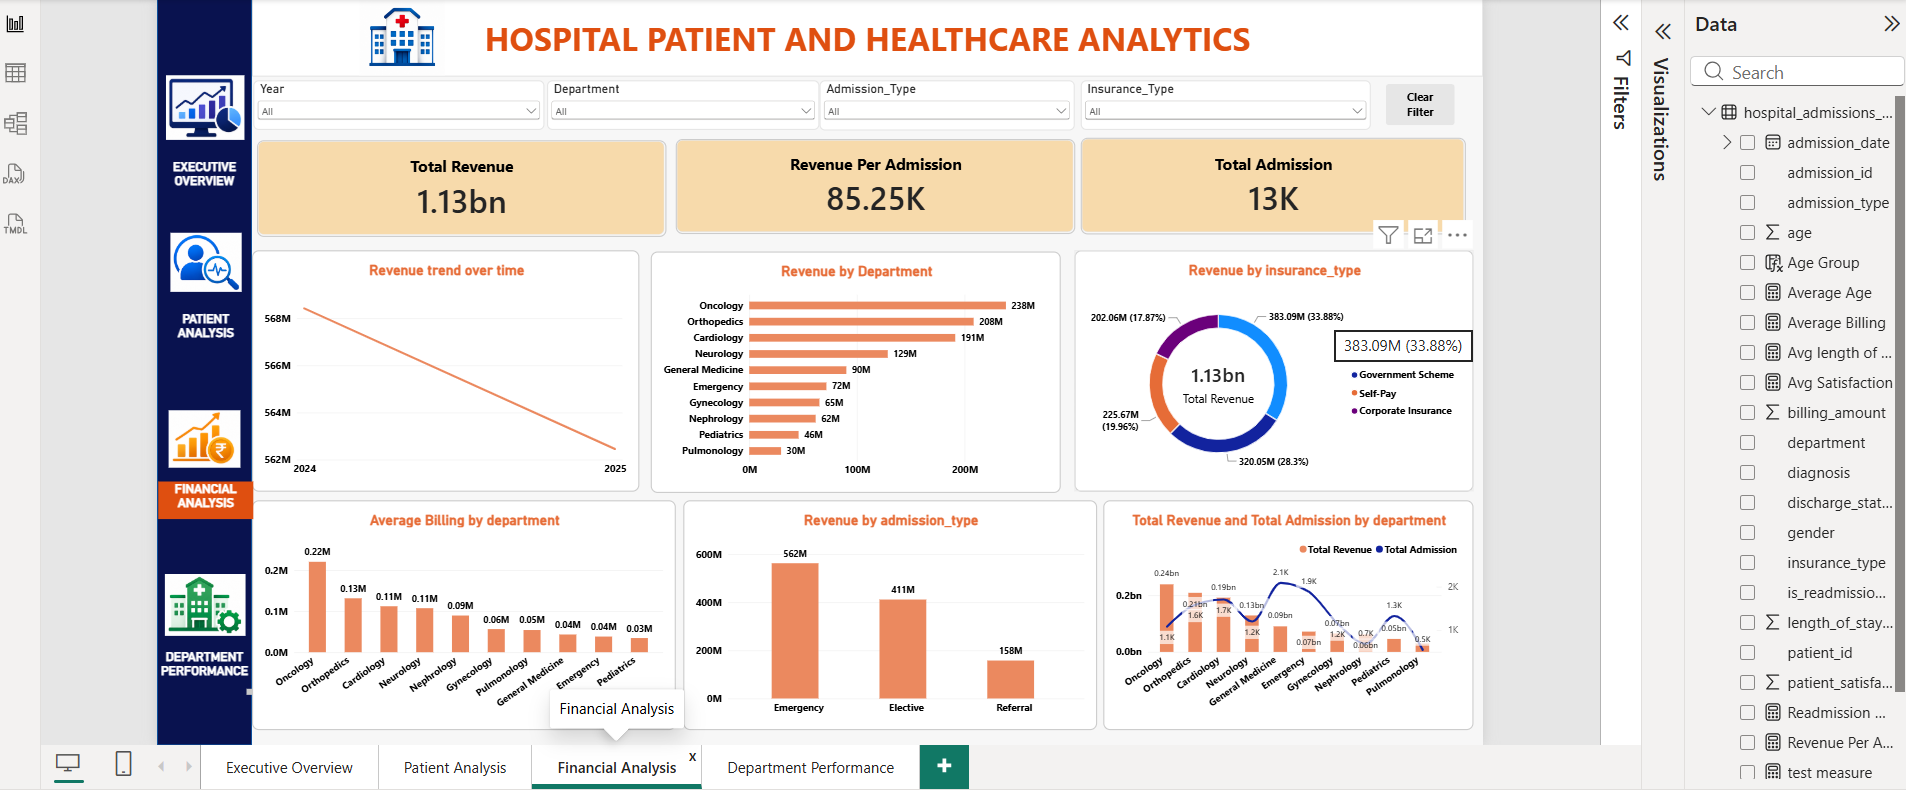

What the dashboard file says about the page in this screenshot:
{"tool":"powerbi","page":{"name":"Financial Analysis","canvas":[1920,1080],"ordinal":2},"visuals":[{"type":"shape","box":[0,0,137.5,1080.4],"z":0},{"type":"shape","box":[137.5,0,1782.5,112.2],"z":1000},{"type":"slicer","fields":{"Values":["hospital_admissions_data.admission_date.Variation.Date Hierarchy.Year"]},"box":[139.3,117.6,421.7,72.4],"z":2000},{"type":"slicer","fields":{"Values":["hospital_admissions_data.department"]},"box":[564.6,117.6,394.5,72.4],"z":3000},{"type":"slicer","fields":{"Values":["hospital_admissions_data.admission_type"]},"box":[959.1,117.6,369.2,73.1],"z":4000},{"type":"slicer","fields":{"Values":["hospital_admissions_data.insurance_type"]},"box":[1337.3,117.6,419.8,72.4],"z":5000},{"type":"cardVisual","fields":{"Data":["hospital_admissions_data.Total Revenue"]},"box":[144,204.5,592.7,139.8],"z":6000},{"type":"cardVisual","fields":{"Data":["hospital_admissions_data.Revenue Per Admission"]},"box":[751.3,202.4,578.1,137.7],"z":7000},{"type":"cardVisual","fields":{"Data":["hospital_admissions_data.Total Admission"]},"box":[1337.7,200.3,557.2,139.8],"z":8000},{"type":"lineChart","title":" Revenue trend over time","fields":{"Y":["hospital_admissions_data.Total Revenue"],"Category":["hospital_admissions_data.admission_date.Variation.Date Hierarchy.Year","hospital_admissions_data.admission_date.Variation.Date Hierarchy.Month"]},"box":[137.5,363.7,561,349.3],"z":9000},{"type":"clusteredBarChart","title":"Revenue by Department","fields":{"Category":["hospital_admissions_data.department"],"Y":["hospital_admissions_data.Total Revenue"]},"box":[714.8,365.6,593.6,349.3],"z":10000},{"type":"donutChart","title":" Revenue by insurance_type","fields":{"Category":["hospital_admissions_data.insurance_type"],"Y":["hospital_admissions_data.Total Revenue"]},"box":[1328.3,363.7,577.3,349.3],"z":11000},{"type":"clusteredColumnChart","title":" Revenue by admission_type","fields":{"Category":["hospital_admissions_data.admission_type"],"Y":["hospital_admissions_data.Total Revenue"]},"box":[761.9,725.7,599,333],"z":12000},{"type":"columnChart","title":"Average Billing by department","fields":{"Category":["hospital_admissions_data.department"],"Y":["hospital_admissions_data.Average Billing"]},"box":[137.5,725.7,613.5,333],"z":13000},{"type":"lineClusteredColumnComboChart","title":"Total Revenue and Total Admission by department","fields":{"Category":["hospital_admissions_data.department"],"Y":["hospital_admissions_data.Total Revenue"],"Y2":["hospital_admissions_data.Total Admission"]},"box":[1369.9,725.7,535.7,333],"z":14000},{"type":"actionButton","box":[1778.9,123.1,100,59.6],"z":15000},{"type":"image","box":[242.5,1.8,224.4,108.6],"z":16000},{"type":"textbox","title":"EXECUTIVE OVERVIEW","box":[0,231.7,137.7,83.5],"z":17000},{"type":"textbox","title":"PATIENT ANALYSIS","box":[2.1,452.9,137.7,85.6],"z":18000},{"type":"textbox","title":"FINANCIAL ANALYSIS","box":[2.1,699.1,137.7,54.3],"z":19000},{"type":"textbox","title":"DEPARTMENT PERFORMANCE","box":[0,941.2,137.7,66.8],"z":20000},{"type":"image","box":[2.1,110.6,135.7,93.9],"z":21000},{"type":"image","box":[2.1,338.1,137.7,85.6],"z":22000},{"type":"image","box":[0,594.8,137.7,83.5],"z":23000},{"type":"image","box":[2.1,832.7,135.7,89.7],"z":24000}]}

Visuals, with their boxes on the page's 1920x1080 design canvas (x1, y1, x2, y2). These are canvas units, not pixel positions in the 1906x790 screenshot, which may show the page scaled, cropped or inside an application window:
shape: locate(0, 0, 138, 1080)
shape: locate(138, 0, 1920, 112)
slicer - hospital_admissions_data.admission_date.Variation.Date Hierarchy.Year: locate(139, 118, 561, 190)
slicer - hospital_admissions_data.department: locate(565, 118, 959, 190)
slicer - hospital_admissions_data.admission_type: locate(959, 118, 1328, 191)
slicer - hospital_admissions_data.insurance_type: locate(1337, 118, 1757, 190)
cardVisual - hospital_admissions_data.Total Revenue: locate(144, 204, 737, 344)
cardVisual - hospital_admissions_data.Revenue Per Admission: locate(751, 202, 1329, 340)
cardVisual - hospital_admissions_data.Total Admission: locate(1338, 200, 1895, 340)
" Revenue trend over time" lineChart: locate(138, 364, 698, 713)
"Revenue by Department" clusteredBarChart: locate(715, 366, 1308, 715)
" Revenue by insurance_type" donutChart: locate(1328, 364, 1906, 713)
" Revenue by admission_type" clusteredColumnChart: locate(762, 726, 1361, 1059)
"Average Billing by department" columnChart: locate(138, 726, 751, 1059)
"Total Revenue and Total Admission by department" lineClusteredColumnComboChart: locate(1370, 726, 1906, 1059)
actionButton: locate(1779, 123, 1879, 183)
image: locate(242, 2, 467, 110)
"EXECUTIVE OVERVIEW" textbox: locate(0, 232, 138, 315)
"PATIENT ANALYSIS" textbox: locate(2, 453, 140, 538)
"FINANCIAL ANALYSIS" textbox: locate(2, 699, 140, 753)
"DEPARTMENT PERFORMANCE" textbox: locate(0, 941, 138, 1008)
image: locate(2, 111, 138, 204)
image: locate(2, 338, 140, 424)
image: locate(0, 595, 138, 678)
image: locate(2, 833, 138, 922)
